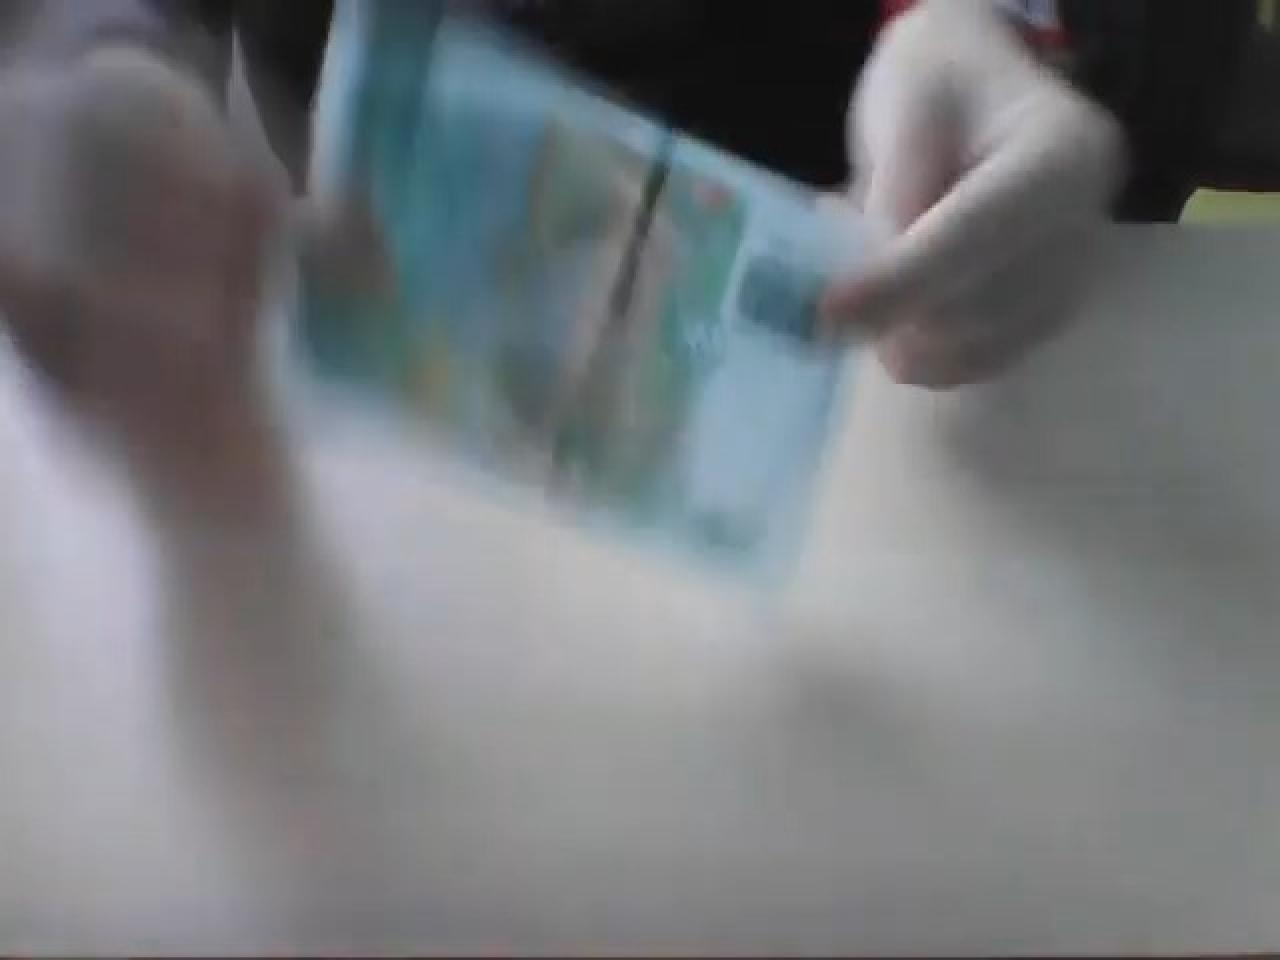100leva: (284, 3, 874, 597), (734, 248, 840, 352)
